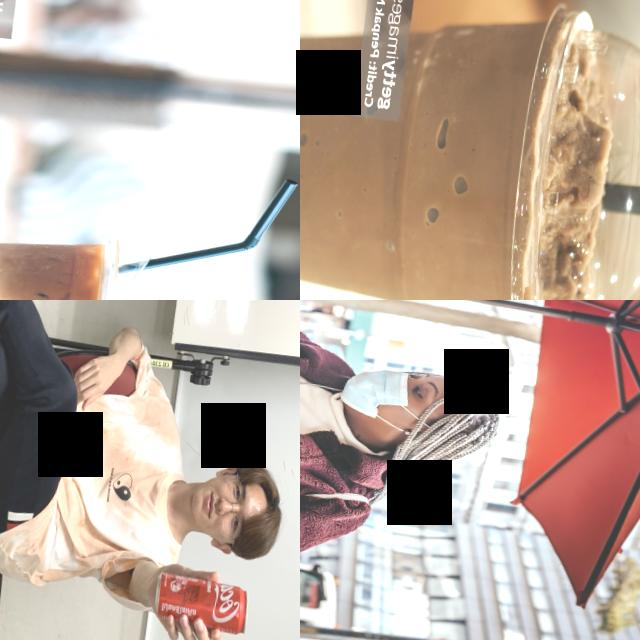can: (150, 570, 252, 638)
cup: (300, 0, 640, 300), (0, 206, 134, 300)
